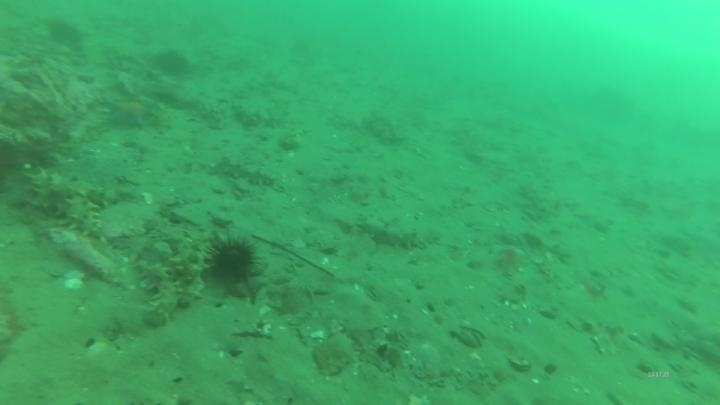echinus: (204, 233, 261, 287), (44, 16, 86, 51), (152, 47, 191, 80)
holothurian: (31, 187, 102, 240), (24, 168, 121, 205), (168, 231, 213, 309), (134, 254, 182, 327), (356, 214, 434, 253), (210, 155, 280, 190)
starfish: (101, 91, 157, 132)
